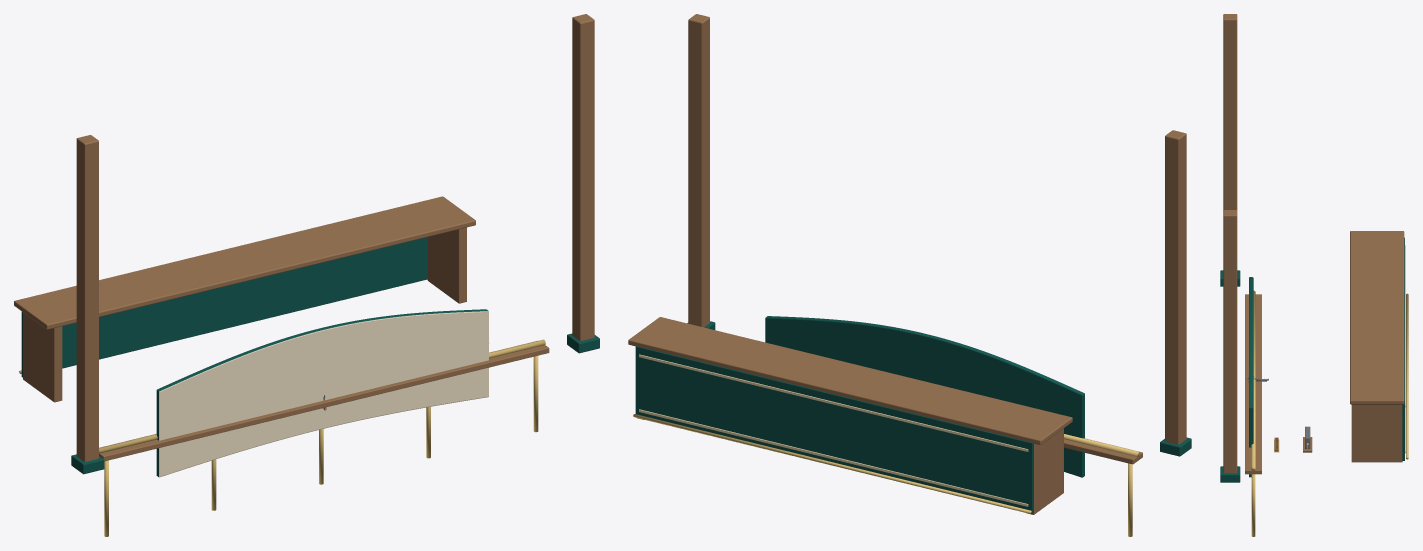
File: booth.glb
3 views of the same model, side by side, from view 1: azimuth 30°, elevation 25°; view 2: azimuth 150°, elevation 25°; view 3: azimuth 270°, elevation 25° (orthographic). The views are drawn at different scales.
Visible parts, largest first — view 1: COUNTER, MARQUEE, POSTS, RAIL; view 2: COUNTER, POSTS, MARQUEE, RAIL; view 3: COUNTER, POSTS, RAIL, MARQUEE.
Boxes of the visible parts, x1,y1,x2,y2 form: COUNTER: (14, 196, 475, 402); MARQUEE: (156, 309, 488, 477); POSTS: (71, 14, 599, 474); RAIL: (99, 339, 549, 536); COUNTER: (628, 317, 1072, 514); POSTS: (687, 14, 1191, 456); MARQUEE: (765, 316, 1084, 477); RAIL: (1064, 434, 1142, 536); COUNTER: (1350, 231, 1408, 462); POSTS: (1220, 14, 1240, 482); RAIL: (1245, 290, 1261, 536); MARQUEE: (1249, 277, 1253, 477).
Bounding box in the file's own units: 6.26 × 4.8 × 2.44.
